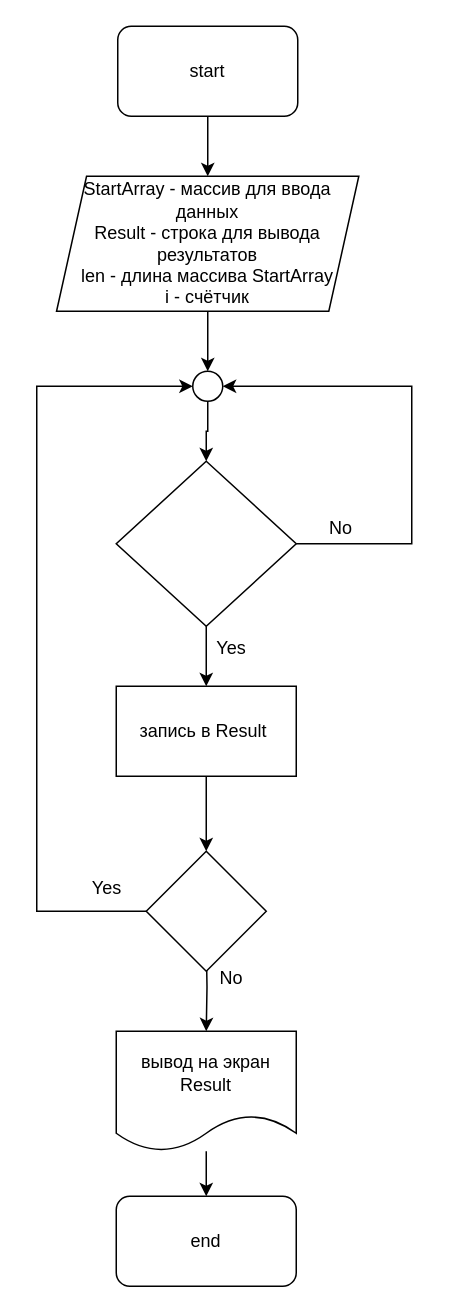
Some shapes in this 450 by 1313 pixel diagram are drawn without their labels. The centre of each missing label's shape, as x and y in pixels:
"[i].Length <3 проверка элемента, длина менее 3-х символов?" belongs at [205,543].
"i < len" belongs at [205,910].
